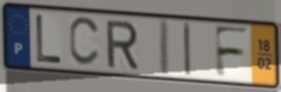C: (68, 15, 103, 69)
F: (212, 24, 251, 80)
I: (157, 17, 171, 78), (181, 21, 193, 79)
L: (34, 13, 64, 66)
R: (104, 19, 140, 70)
